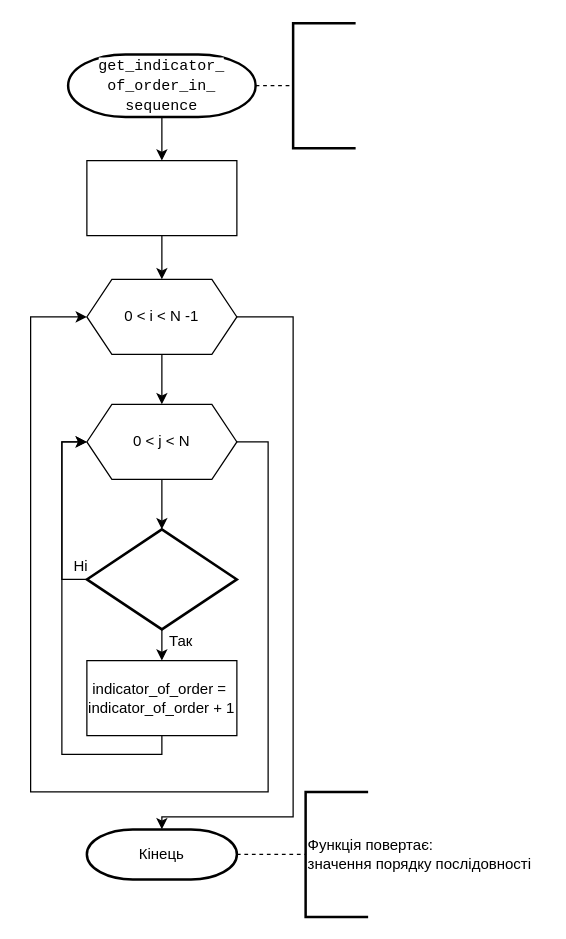
Some shapes in this 566 by 939 pixel diagram are drawn without their labels. The shapes that lost their labels are listed below. From the top down, each one's centre as x and y in pixels, then its label:
At (x=323, y=85): "Функція приймає: кількість елементів у послідовності, послідовність цілих чисел".
At (x=161, y=197): "Змінна - показник порядку indicator_of_order = 0".
At (x=161, y=579): "Елемент i-ий < j- ого".
